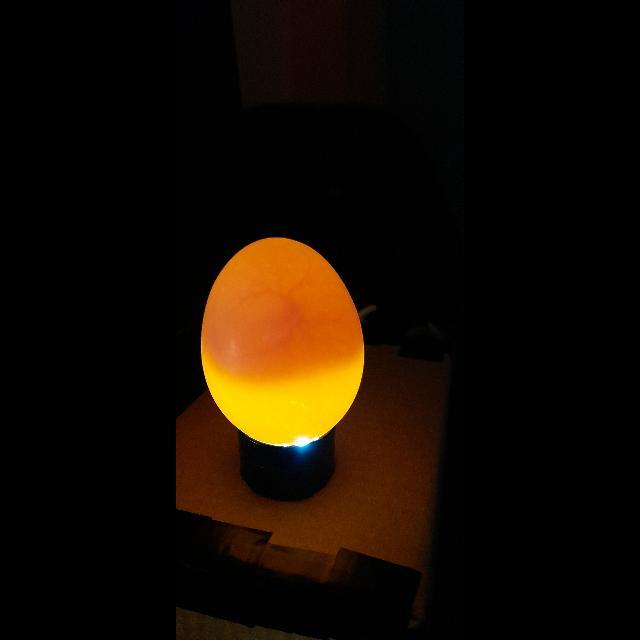Fertile: (202, 237, 362, 445)
